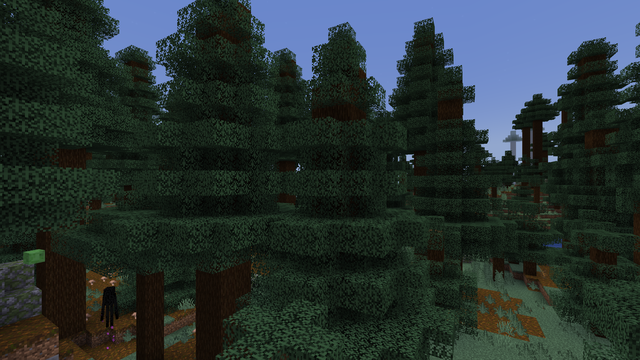endermens: (102, 284, 115, 329)
slimes: (23, 248, 44, 264)
